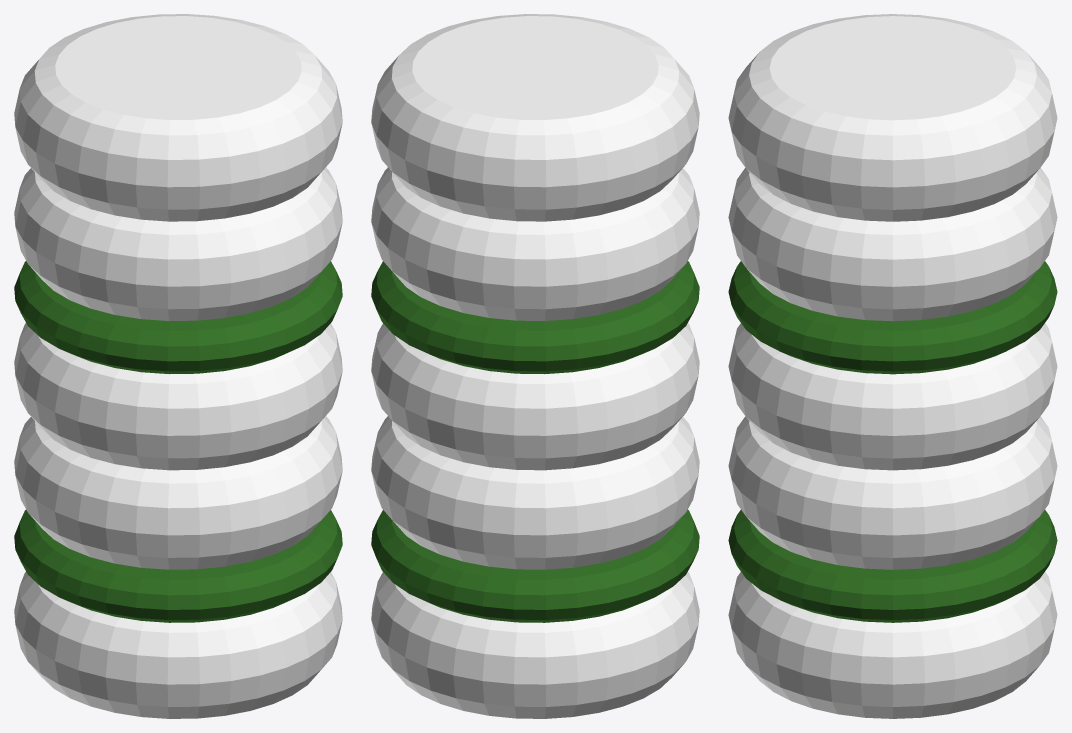
Rendered from ArmDonuts1x2.fbx.
3 renders of one model, left to right at view 1: azimuth 30°, elevation 25°; view 2: azimuth 150°, elevation 25°; view 3: azimuth 270°, elevation 25°, orthographic.
Visible parts, largest first — view 1: ArmDonuts1x2; view 2: ArmDonuts1x2; view 3: ArmDonuts1x2.
Part boxes in pixels (x1,y1,x2,y2): ArmDonuts1x2: [14, 14, 342, 718]; ArmDonuts1x2: [371, 14, 699, 718]; ArmDonuts1x2: [728, 14, 1057, 718].
Bounding box in the file's own units: 1 × 2 × 1.
